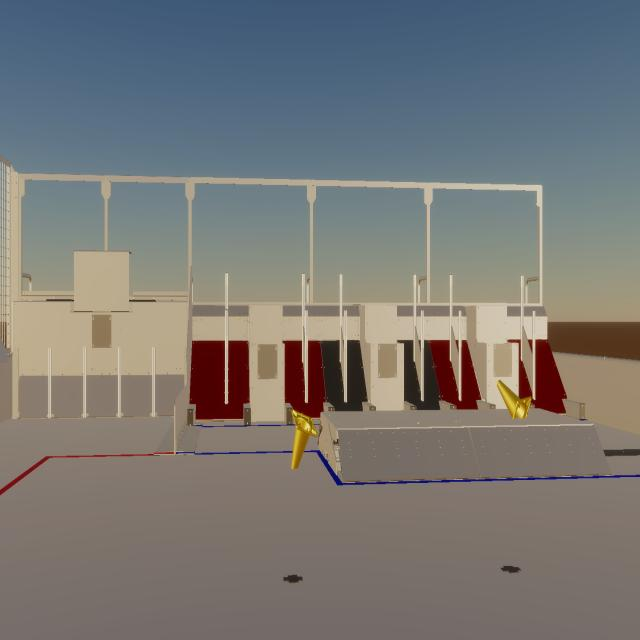frc_cone: (291, 409, 318, 469), (497, 380, 532, 419)
